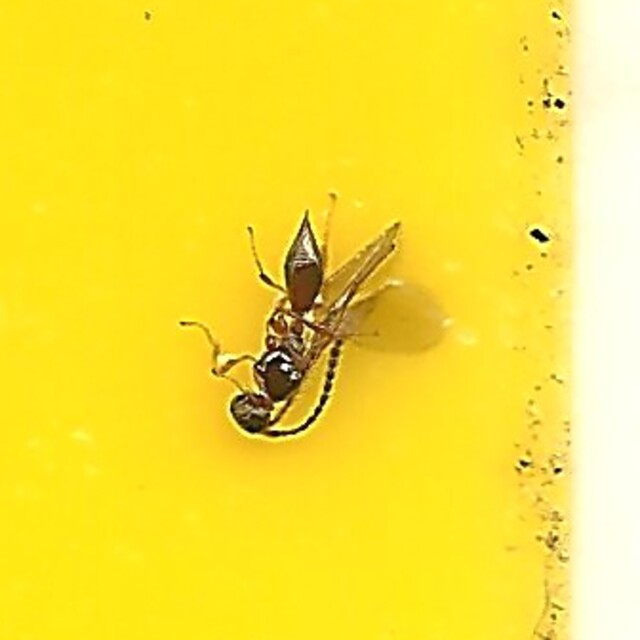Hymenoptera: (190, 198, 450, 442)
